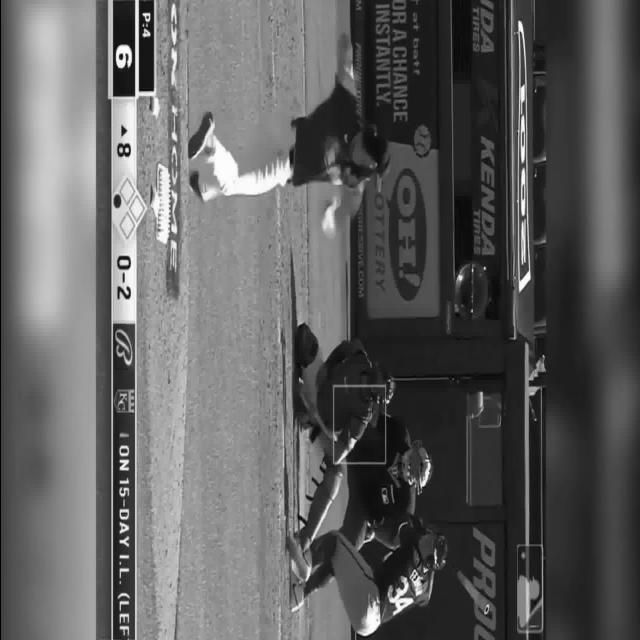baseball_glove: (320, 196, 338, 238)
bat: (456, 569, 490, 615)
shoe: (187, 110, 215, 160), (286, 535, 312, 581), (294, 322, 318, 368), (188, 170, 206, 202), (288, 579, 304, 612)
